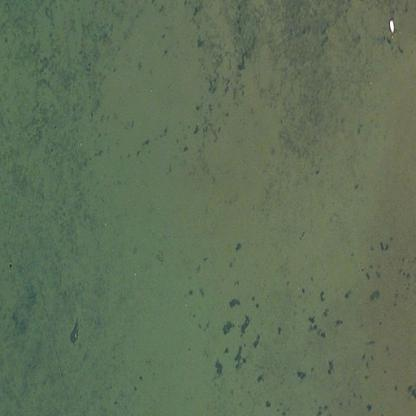ship: (387, 18, 395, 33)
